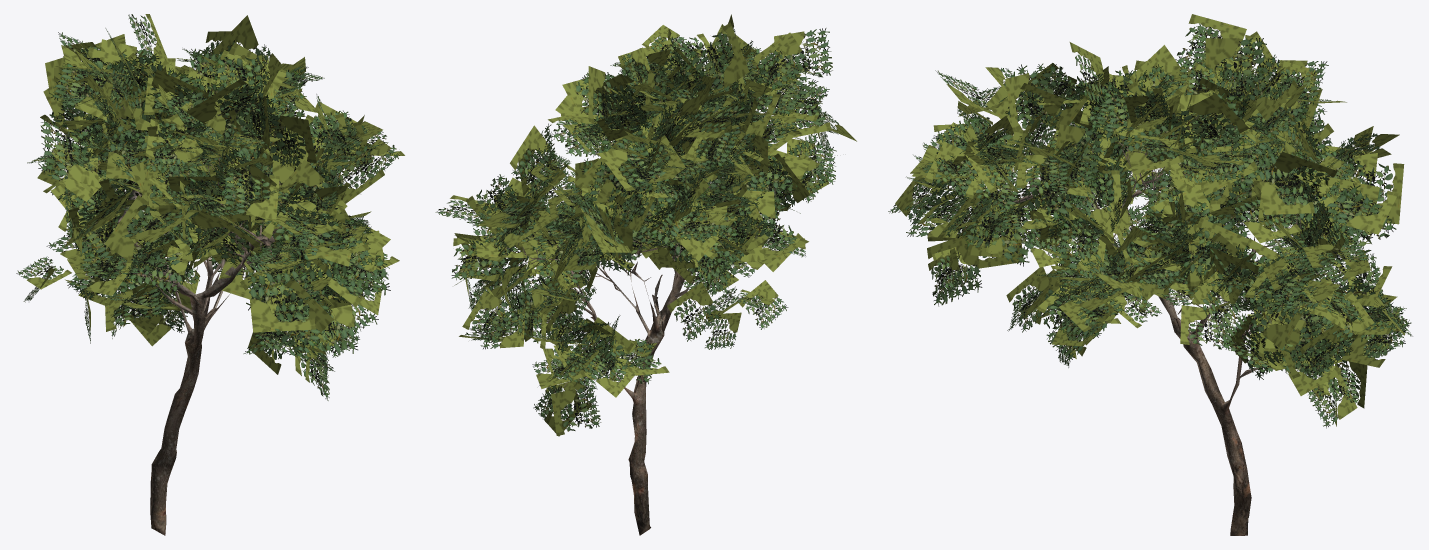
Rendered from tree_small_open.glb.
3 views of the same model, side by side, from view 1: azimuth 30°, elevation 25°; view 2: azimuth 150°, elevation 25°; view 3: azimuth 270°, elevation 25° (orthographic). The views are drawn at different scales.
Bounding box in the file's own units: 3.23 × 4.83 × 4.72.
Materials: 3 (3 with a texture image).
